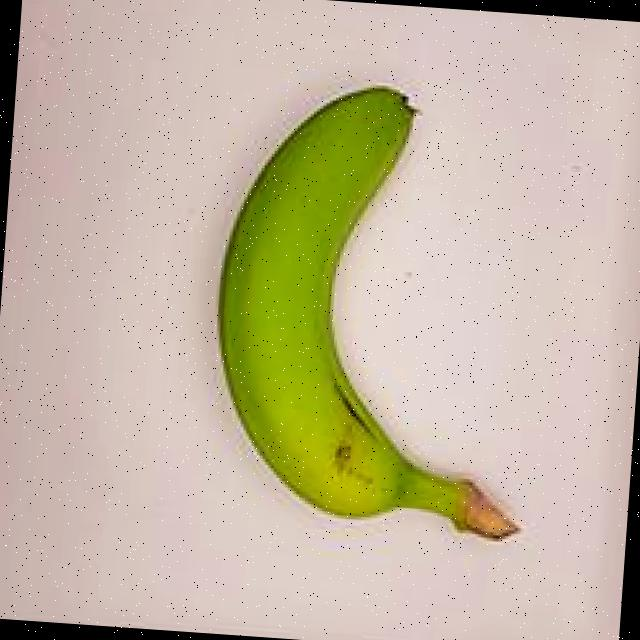Unripe: (180, 54, 560, 562)
